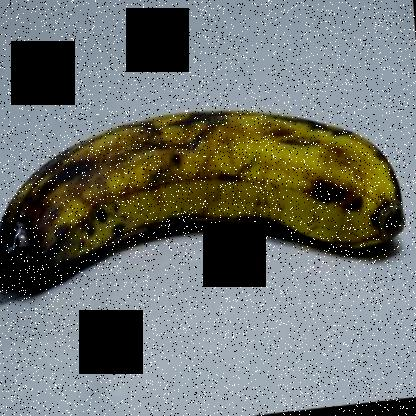overripe: (1, 92, 415, 311)
